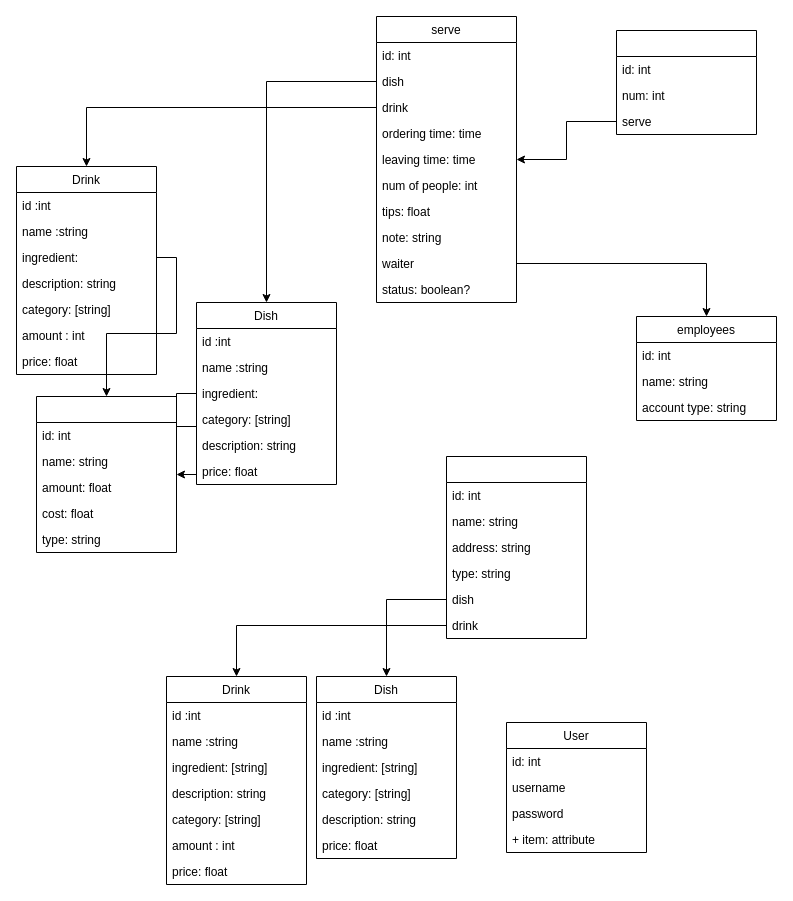
This 793x901 diagram has some shape labels left out. Here are the shapes that lost their labels. From the top down, the box of each, then its label:
(616, 30, 756, 134): table
(36, 396, 176, 552): Ingredient
(446, 456, 586, 638): Restaurant
